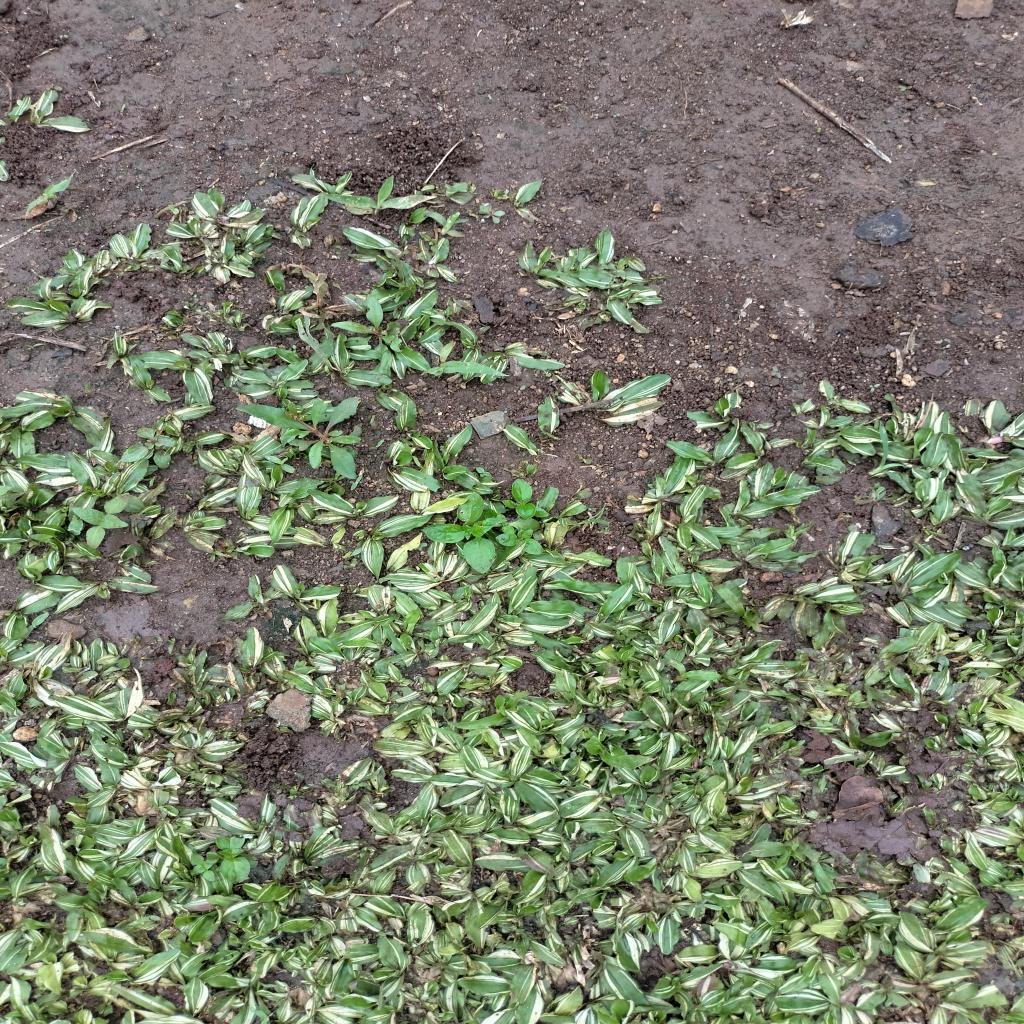bayi: (768, 364, 787, 382), (475, 465, 496, 479), (866, 381, 882, 395), (166, 203, 181, 215), (291, 342, 300, 355), (178, 114, 185, 118)
gingseng jawa: (231, 395, 363, 479), (330, 295, 410, 354), (477, 200, 507, 226)
rambat atas: (422, 340, 512, 384), (866, 422, 914, 494), (22, 174, 81, 215), (421, 205, 472, 240), (572, 502, 614, 535), (259, 453, 299, 476)
rambat bawah: (444, 693, 514, 731), (662, 654, 724, 684)
tunggang besar: (422, 490, 502, 574), (70, 491, 136, 551), (496, 514, 550, 559), (501, 476, 551, 522), (215, 835, 253, 884)
ungu tunggang: (121, 425, 181, 471)
